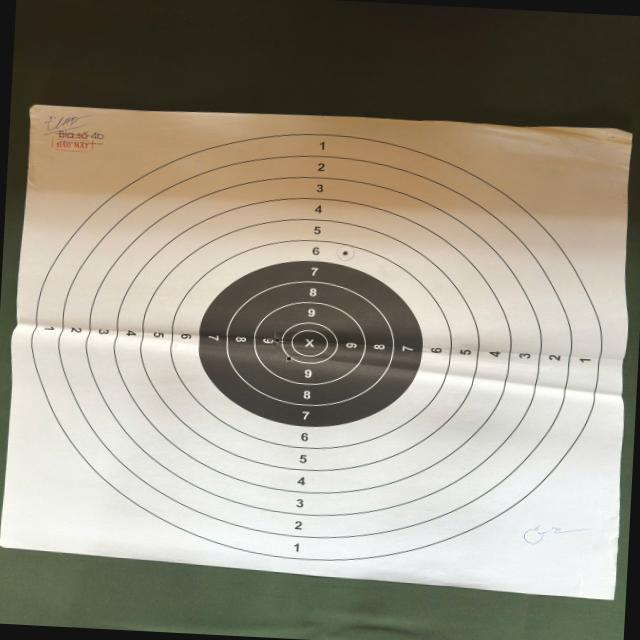bullet: (273, 336, 282, 344), (285, 354, 292, 362), (343, 249, 347, 257)
target: (0, 105, 633, 595)
